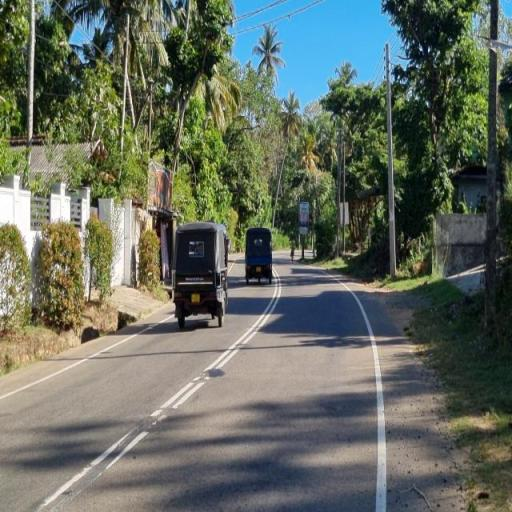double_white_line: (149, 266, 280, 426), (40, 426, 146, 510)
